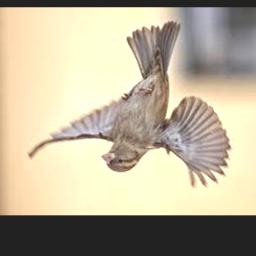Sparrow: (29, 22, 231, 189)
